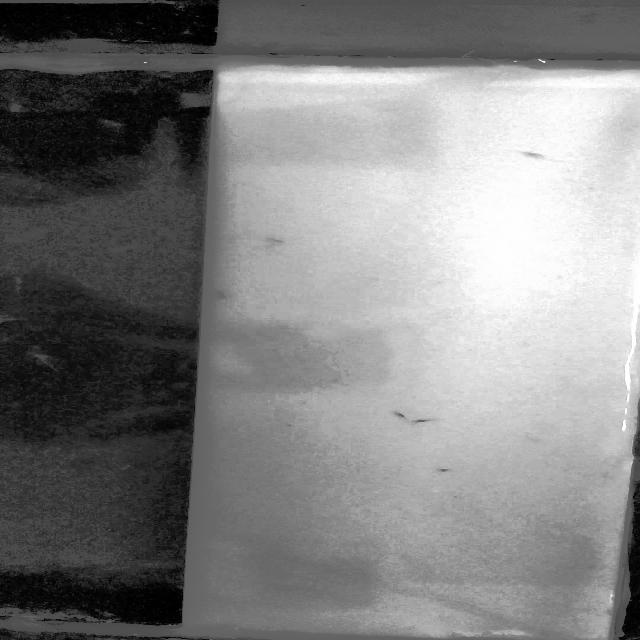shrimp: (402, 415, 462, 430), (421, 457, 463, 473), (515, 148, 557, 164), (384, 410, 418, 424)
